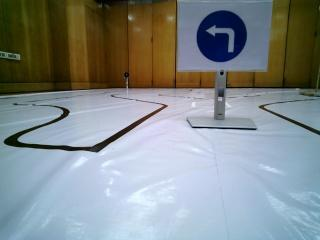left: (180, 2, 270, 70)
